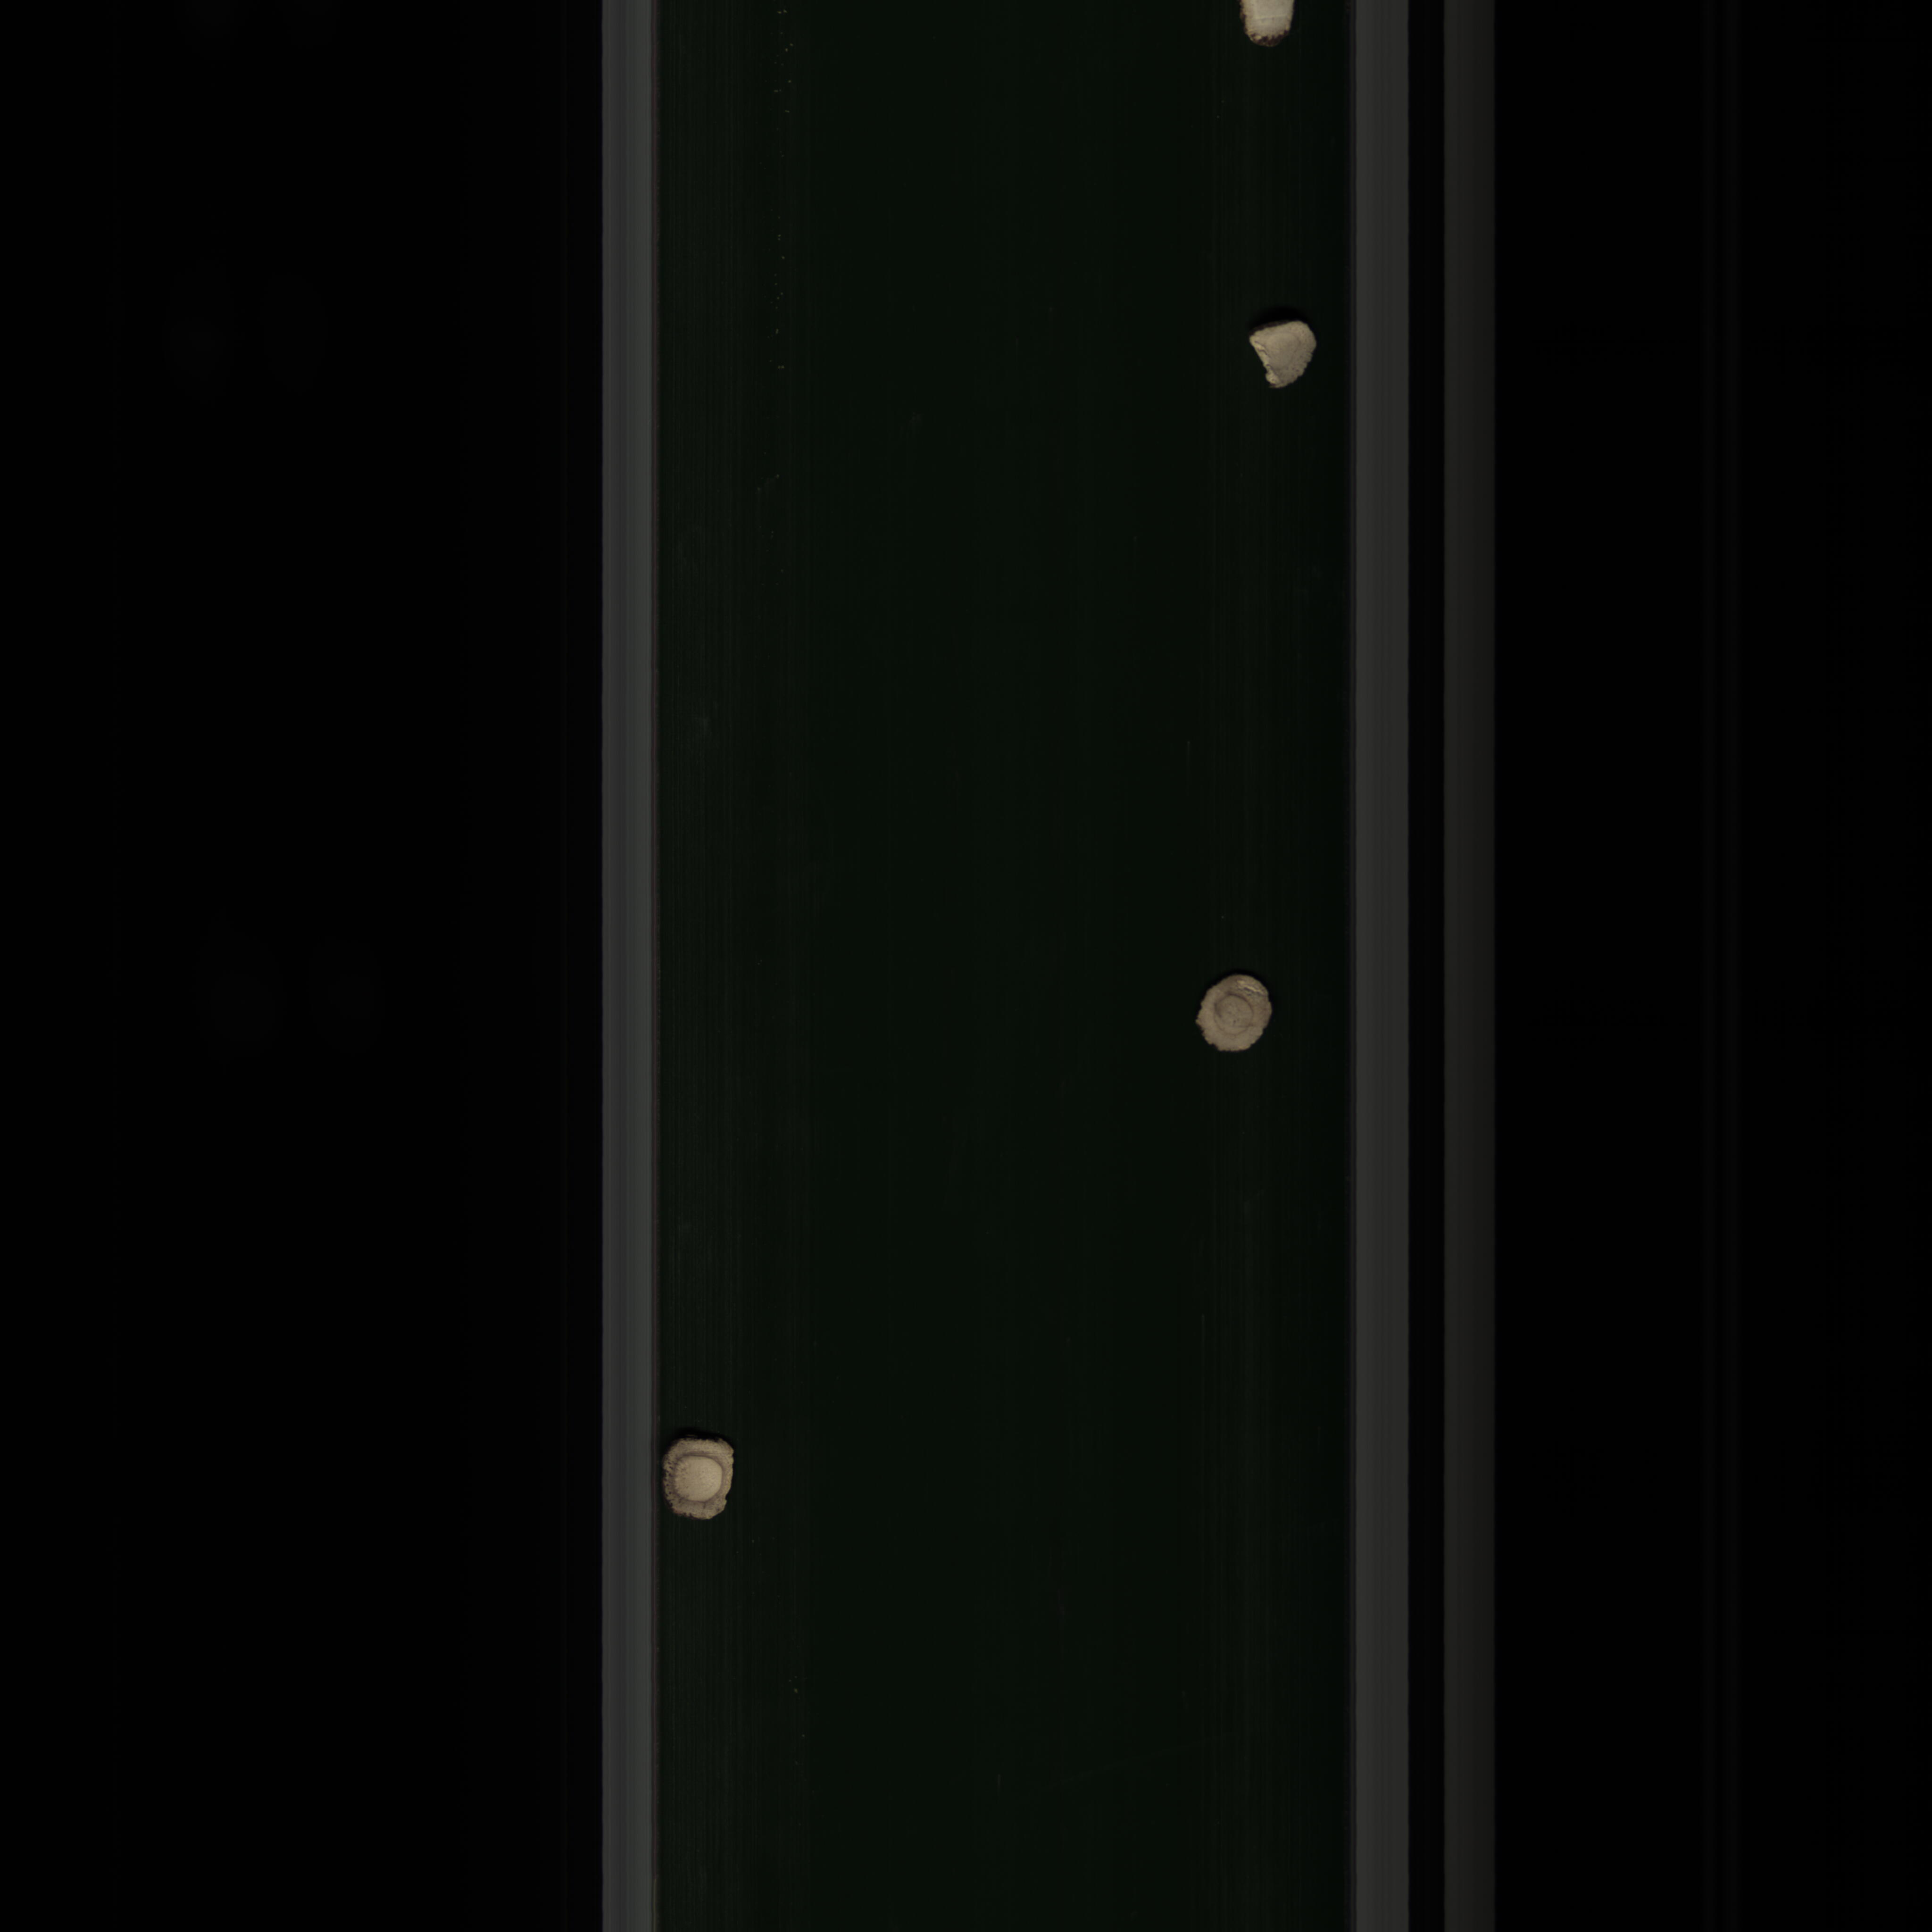debris: (1235, 317, 1325, 393)
moldy: (663, 1437, 747, 1525)
